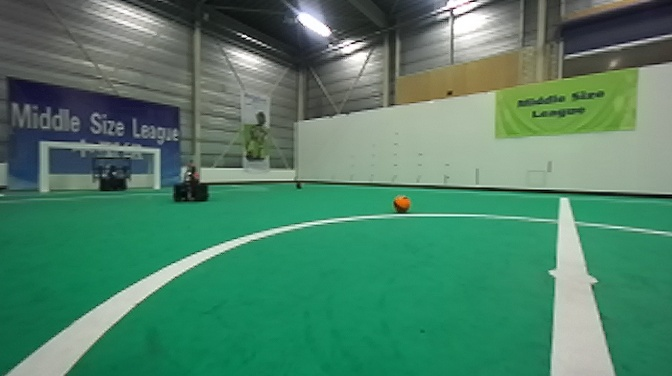ball: (392, 192, 412, 214), (293, 179, 306, 190)
goal: (36, 138, 162, 192)
robot: (166, 154, 213, 203), (89, 156, 134, 192)
